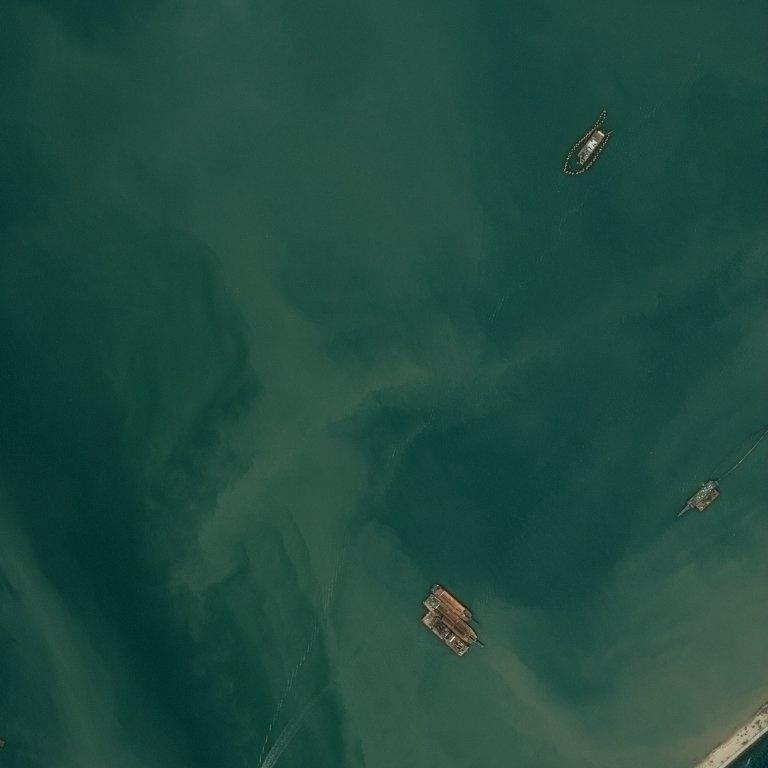ship: (670, 479, 713, 518), (420, 619, 486, 622), (687, 504, 691, 509), (473, 640, 477, 643), (422, 601, 425, 604), (693, 465, 697, 466), (691, 461, 692, 463), (432, 594, 432, 595)
